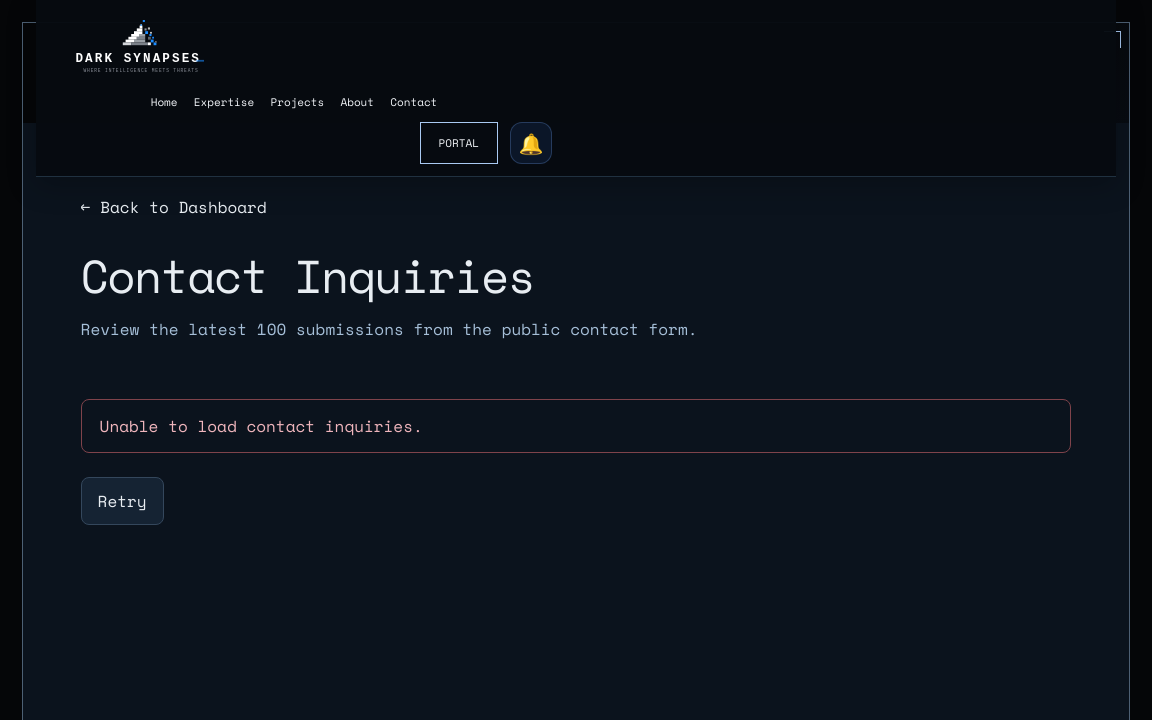
loads the inbox after retrying a failed request
Expected: the message reads "Unable to load contact inquiries.", [100,414,423,438]
Click the button "Retry".
click(122, 502)  # box [81,478,164,526]
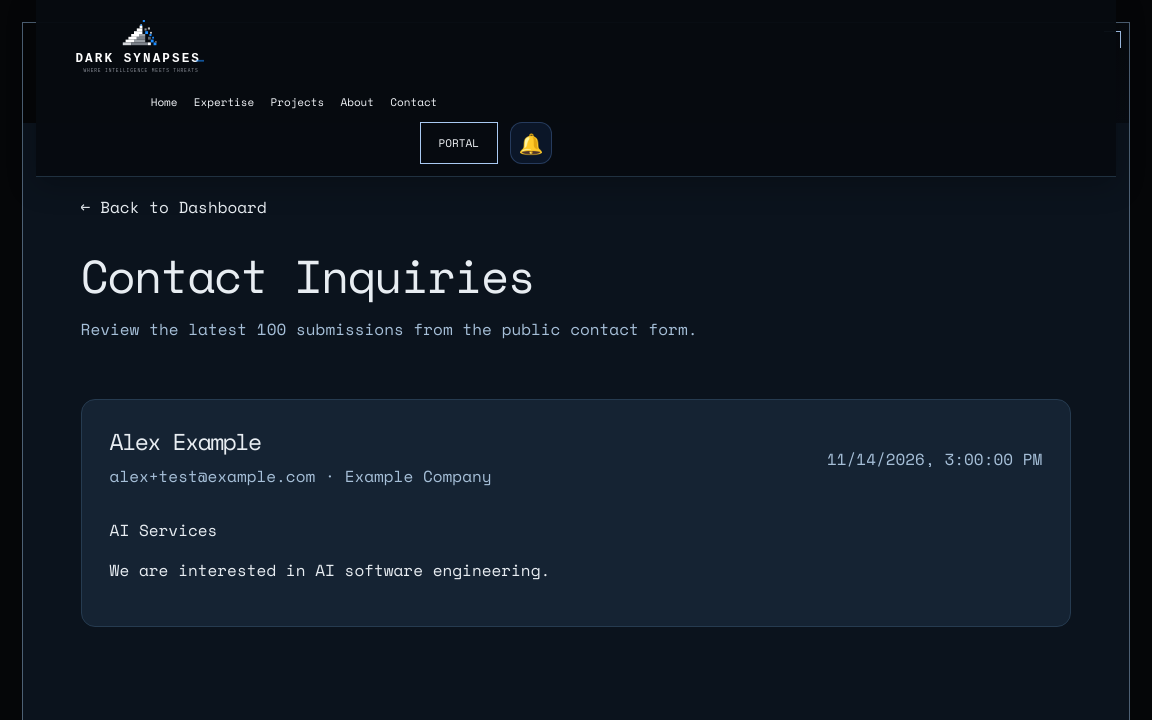
Now the heading "Alex Example" is shown, box [110,424,260,458]
